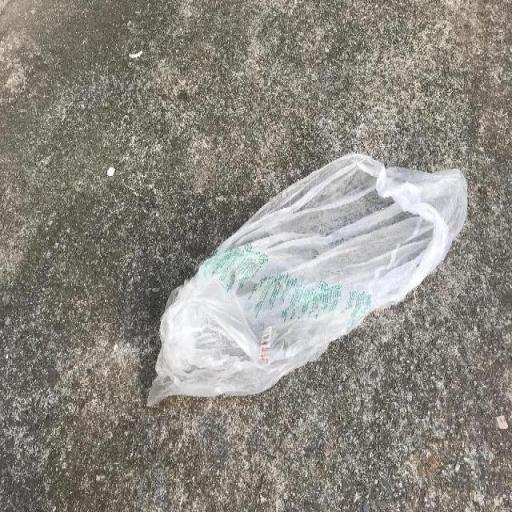plastic-bag: (143, 150, 472, 414)
